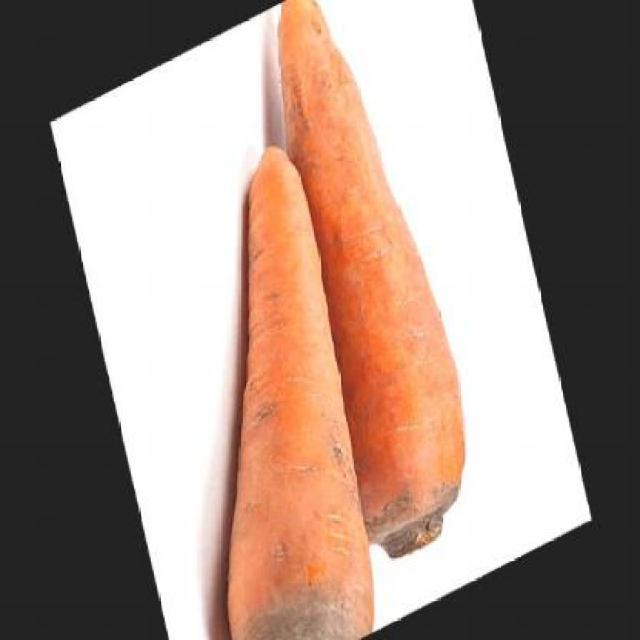carrot: (242, 0, 489, 575), (132, 133, 405, 639)
